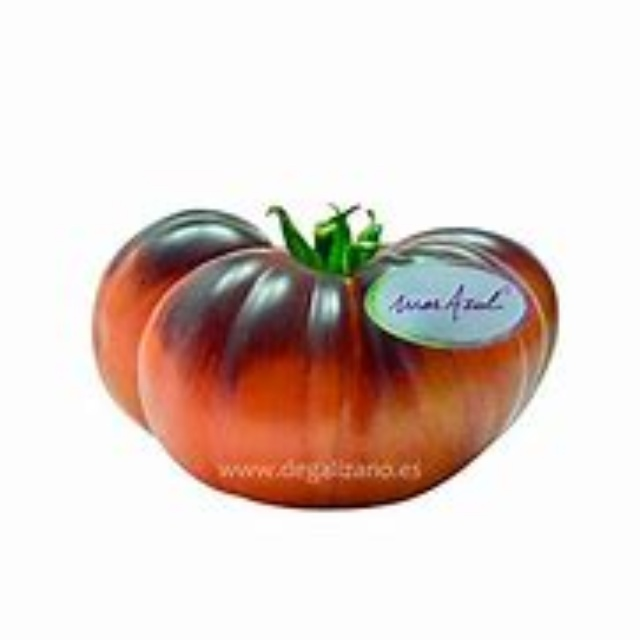tomato: (80, 199, 570, 525)
